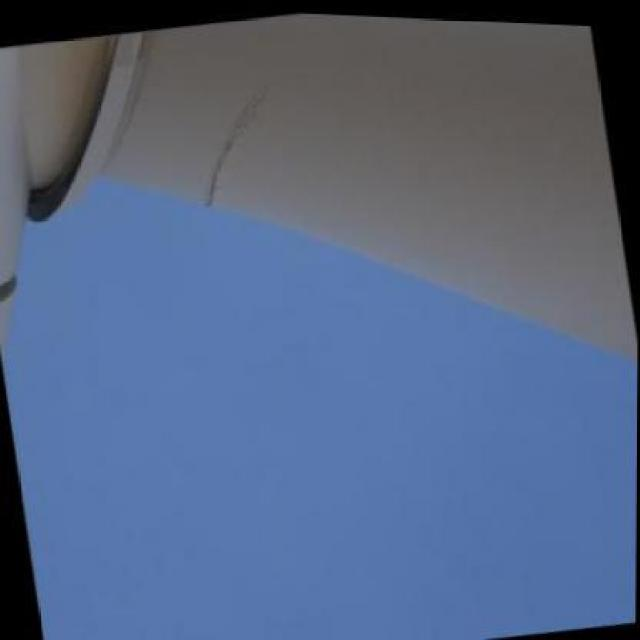Crack: (186, 81, 283, 210)
